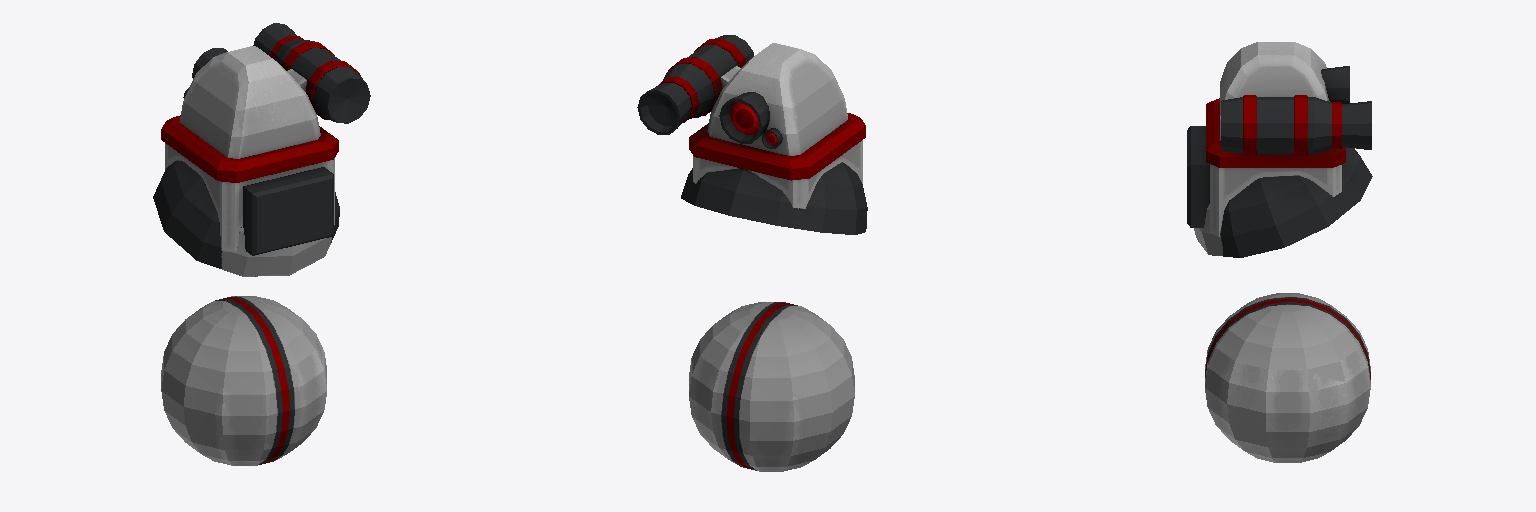
3 views of the same model, side by side, from view 1: azimuth 30°, elevation 25°; view 2: azimuth 150°, elevation 25°; view 3: azimuth 270°, elevation 25° (orthographic).
Parts seen in each view (by area): view 1: rollerRobotBase ballCover ball, rollerRobotBase, rollerRobotBase ballCover, rollerRobotBase roBackpack, rollerRobotBase baseBorder, rollerRobotBase gun, rollerRobotBase gun gunRing3; view 2: rollerRobotBase ballCover ball, rollerRobotBase, rollerRobotBase ballCover, rollerRobotBase baseBorder, rollerRobotBase gun, rollerRobotBase eye1, rollerRobotBase gun gunRing2; view 3: rollerRobotBase ballCover ball, rollerRobotBase ballCover, rollerRobotBase, rollerRobotBase gun, rollerRobotBase baseBorder, rollerRobotBase roBackpack, rollerRobotBase eye1, rollerRobotBase gun gunRing2, rollerRobotBase gun gunRing3.
Part boxes in pixels (x1,y1,x2,y2): rollerRobotBase ballCover ball: (161,296,326,465); rollerRobotBase: (165,46,334,252); rollerRobotBase ballCover: (153,161,339,276); rollerRobotBase roBackpack: (243,167,333,255); rollerRobotBase baseBorder: (161,115,338,182); rollerRobotBase gun: (253,23,370,123); rollerRobotBase gun gunRing3: (306,60,360,119); rollerRobotBase ballCover ball: (689,302,854,471); rollerRobotBase: (693,43,862,208); rollerRobotBase ballCover: (681,162,867,234); rollerRobotBase baseBorder: (689,113,865,180); rollerRobotBase gun: (637,35,753,134); rollerRobotBase eye1: (719,92,769,143); rollerRobotBase gun gunRing2: (668,57,722,115); rollerRobotBase ballCover ball: (1205,293,1370,462); rollerRobotBase ballCover: (1194,147,1372,257); rollerRobotBase: (1210,42,1341,236); rollerRobotBase gun: (1221,97,1371,153); rollerRobotBase baseBorder: (1206,98,1345,167); rollerRobotBase roBackpack: (1187,126,1209,227); rollerRobotBase eye1: (1321,66,1349,103); rollerRobotBase gun gunRing2: (1294,95,1307,155); rollerRobotBase gun gunRing3: (1243,95,1256,155).
Size of the model in its own units: 1.85 by 4.01 by 1.65.
1 materials, 1 textured.